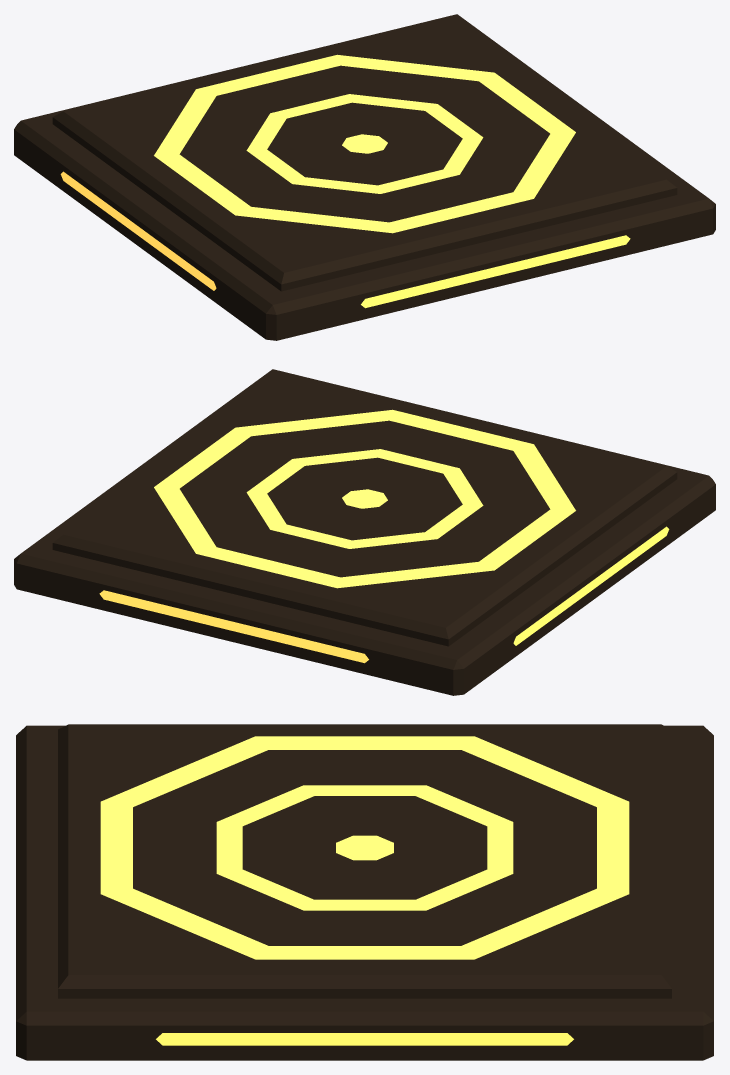
File: platform_hard.glb
3 views of the same model, one above another, from view 1: azimuth 30°, elevation 25°; view 2: azimuth 150°, elevation 25°; view 3: azimuth 270°, elevation 25° (orthographic). The views are drawn at different scales.
Visible parts, largest first — view 1: Mesh; view 2: Mesh; view 3: Mesh.
Part boxes in pixels (x1,y1,x2,y2): Mesh: [14, 14, 715, 340]; Mesh: [14, 369, 715, 695]; Mesh: [16, 724, 713, 1060].
Size of the model in its own units: 2.01 by 0.206 by 2.01.
